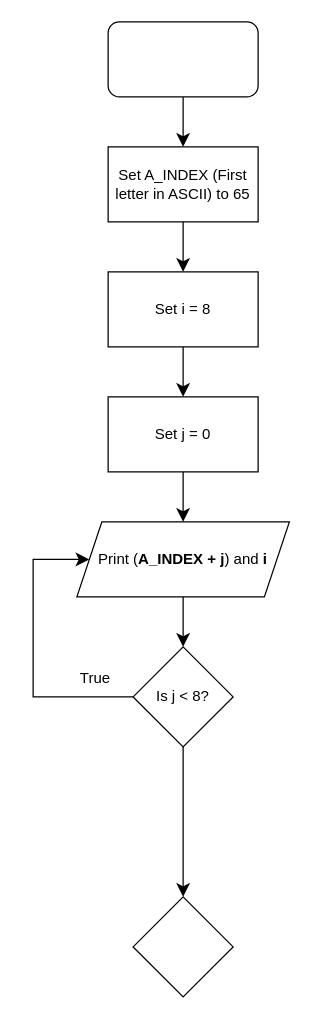
Some shapes in this 311 by 1019 pixel diagram are drawn without their labels. The shapes that lost their labels are listed below. From the top down, each one's centre as x and y in pixels, then its label:
point (182, 59): Begin
point (182, 946): Is i < 8?
